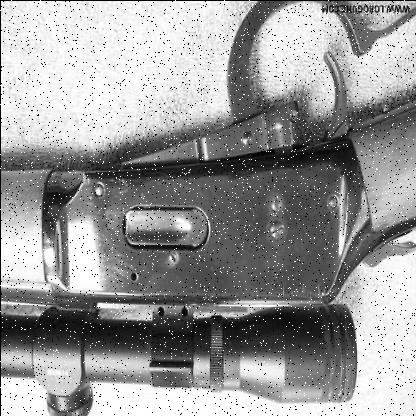rifle: (17, 43, 416, 416)
